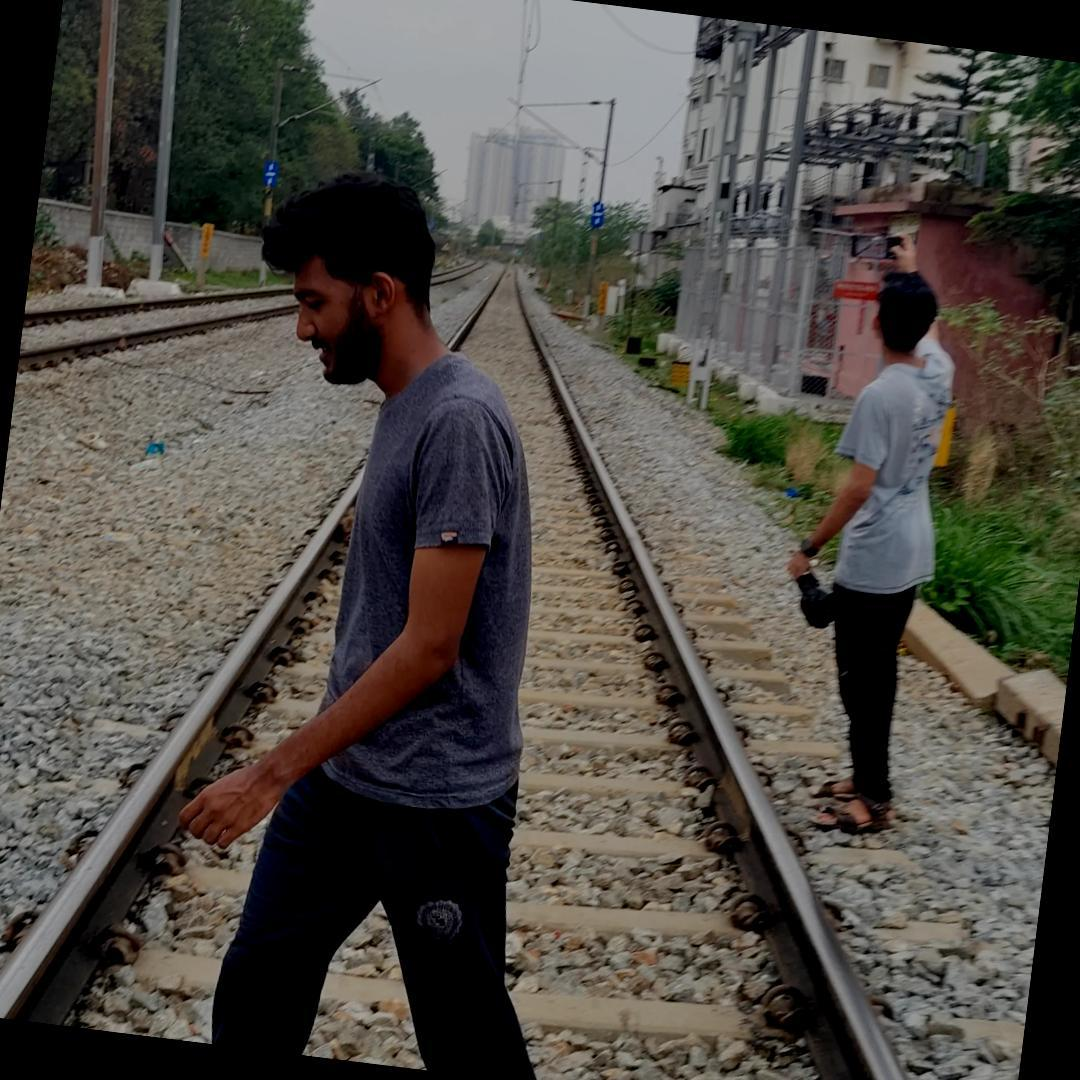standing: (125, 149, 617, 1080), (738, 242, 998, 861)
track: (0, 246, 986, 1080)
